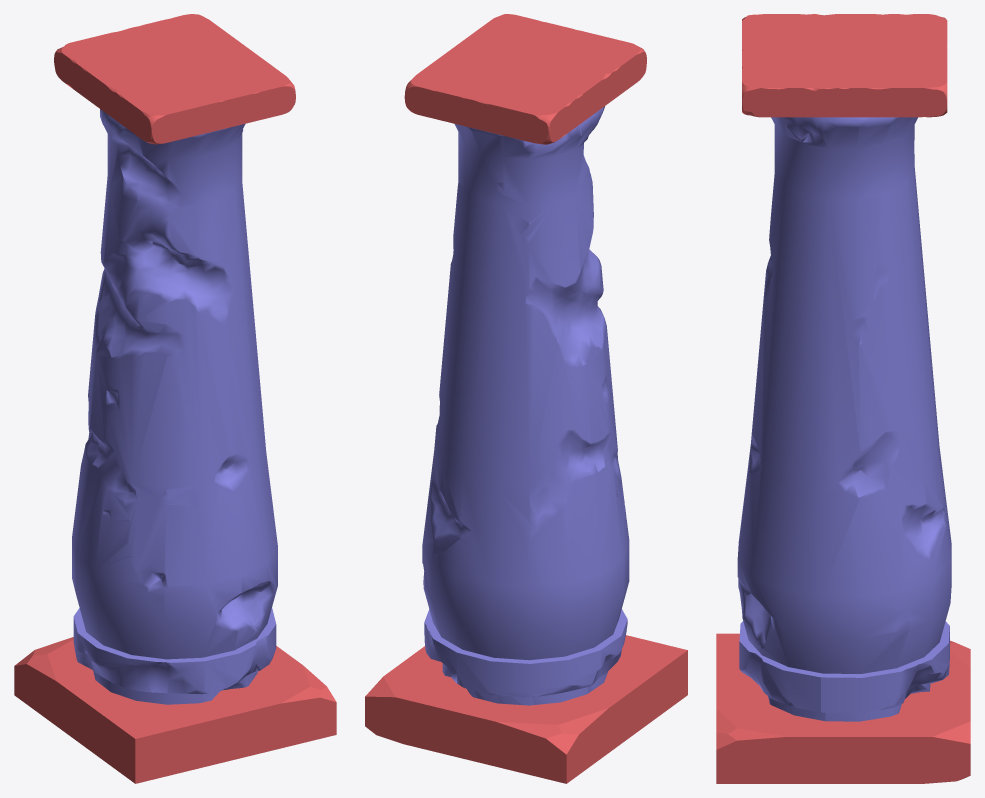
The model's file is Column.fbx.
3 renders of one model, left to right at view 1: azimuth 30°, elevation 25°; view 2: azimuth 150°, elevation 25°; view 3: azimuth 270°, elevation 25°, orthographic. The views are drawn at different scales.
Visible parts, largest first — view 1: Cylinder_dmg.004, Cube.010_dmg.003; view 2: Cylinder_dmg.004, Cube.010_dmg.003; view 3: Cylinder_dmg.004, Cube.010_dmg.003.
Part boxes in pixels (box(x1,y1,x2,y2)): Cylinder_dmg.004: box(72, 109, 277, 704); Cube.010_dmg.003: box(14, 14, 336, 783); Cylinder_dmg.004: box(422, 106, 629, 705); Cube.010_dmg.003: box(365, 14, 687, 783); Cylinder_dmg.004: box(737, 117, 951, 721); Cube.010_dmg.003: box(716, 14, 970, 783).
Size of the model in its own units: 274 by 844 by 285.
